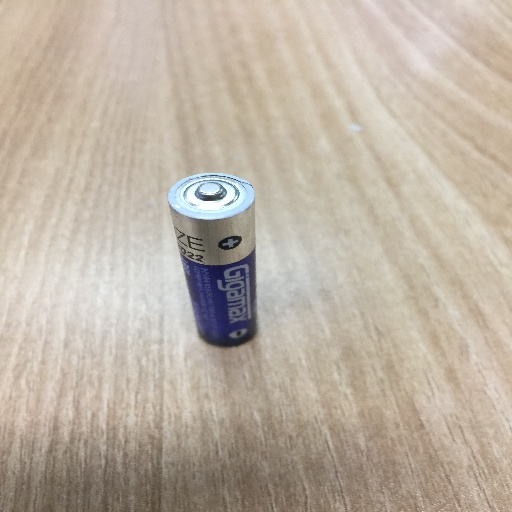Battery_0: (166, 166, 272, 361)
